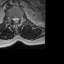CCS_normal: (15, 15, 17, 24)
LFS_normal: (19, 14, 21, 21)
LLS_normal: (17, 15, 19, 23)
RFS_normal: (10, 15, 12, 22)
RLS_normal: (12, 15, 15, 23)
